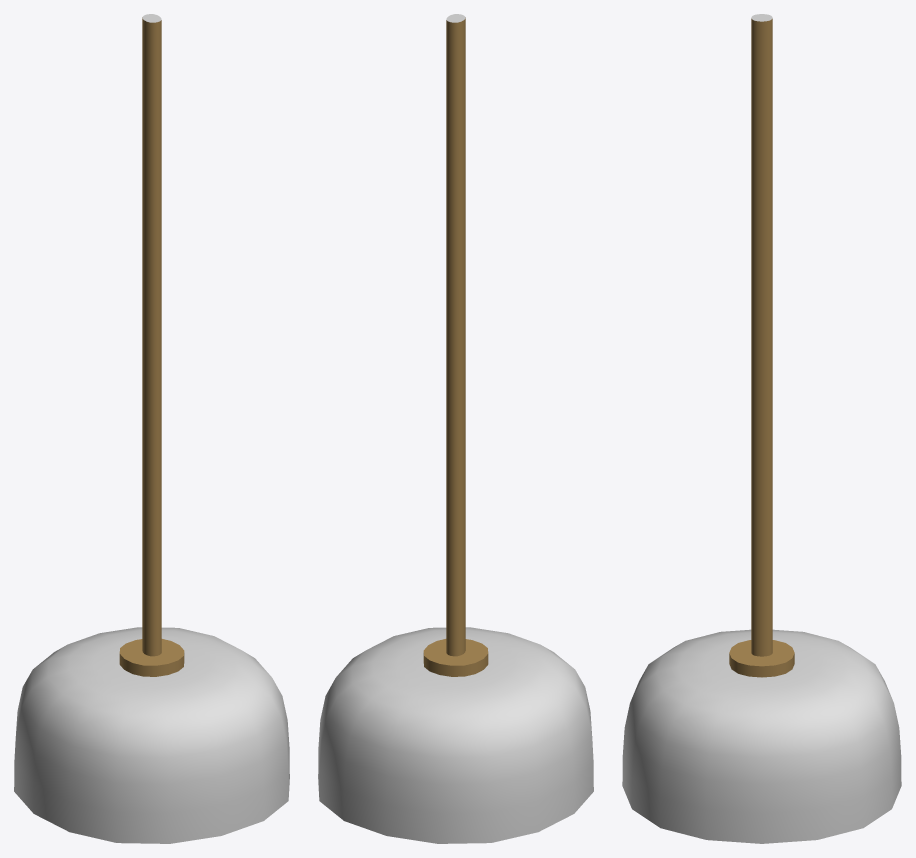
Rendered from HangingLight.glb.
3 renders of one model, left to right at view 1: azimuth 30°, elevation 25°; view 2: azimuth 150°, elevation 25°; view 3: azimuth 270°, elevation 25°, orthographic.
Visible parts, largest first — view 1: HangingLight; view 2: HangingLight; view 3: HangingLight.
Part boxes in pixels (x1,y1,x2,y2): HangingLight: (14,14,289,843); HangingLight: (318,14,593,843); HangingLight: (622,14,901,843).
Bounding box in the file's own units: 0.4621 × 1.44 × 0.4711.
